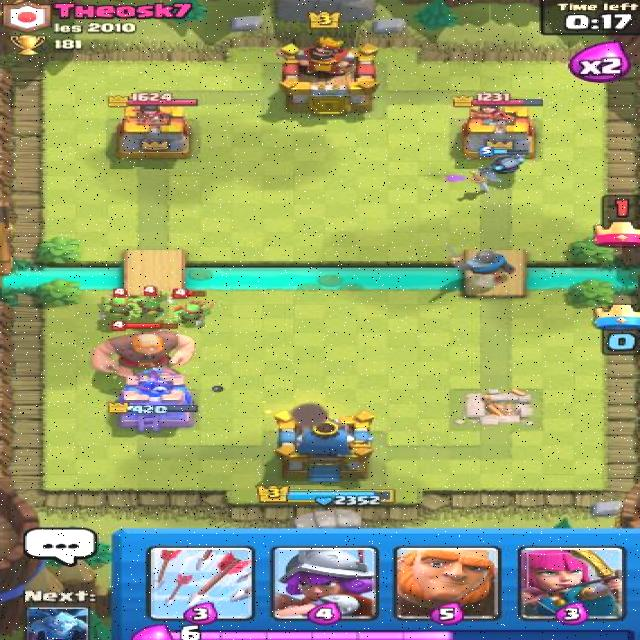Enemy-Giant: (92, 320, 200, 379)
Enemy-SpearGoblin: (169, 288, 216, 329), (97, 286, 144, 320), (128, 286, 172, 316)
Player-Knight: (440, 240, 518, 284)
Player-MiniPEKKA: (475, 145, 534, 176)
